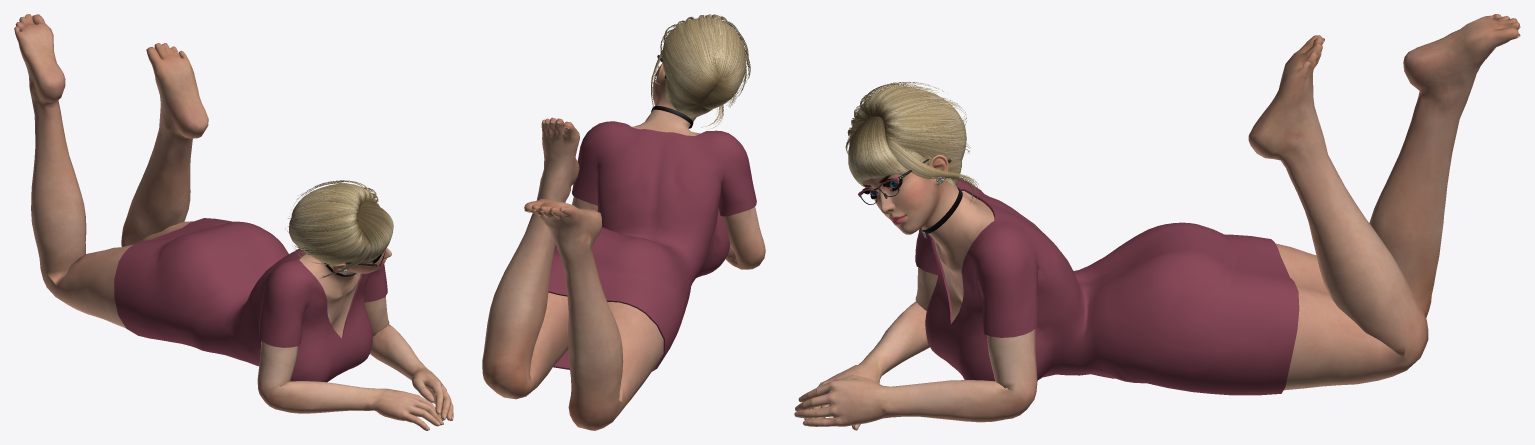
The picture shows the model from 3 angles, left to right: view 1: azimuth 30°, elevation 25°; view 2: azimuth 150°, elevation 25°; view 3: azimuth 270°, elevation 25°; orthographic projection. The views are drawn at different scales.
Visible parts, largest first — view 1: varina.015, varina.024, varina.007; view 2: varina.015, varina.024, varina.007, varina.009; view 3: varina.015, varina.024, varina.007, varina.009.
Part boxes in pixels (x1,y1,x2,y2): varina.015: (14,14,453,430); varina.024: (114,218,387,382); varina.007: (287,180,393,278); varina.015: (482,63,765,430); varina.024: (548,121,756,371); varina.007: (651,14,750,128); varina.009: (663,20,709,89); varina.015: (794,14,1520,430); varina.024: (915,179,1299,395); varina.007: (845,81,978,203); varina.009: (884,100,966,135).
Size of the model in its own units: 0.4642 by 0.5773 by 1.11.
Materials: 16 (14 with a texture image).
